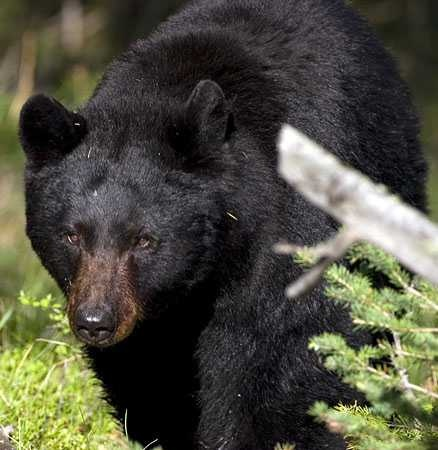bear: (38, 221, 166, 349), (147, 66, 275, 194), (10, 75, 138, 203)
